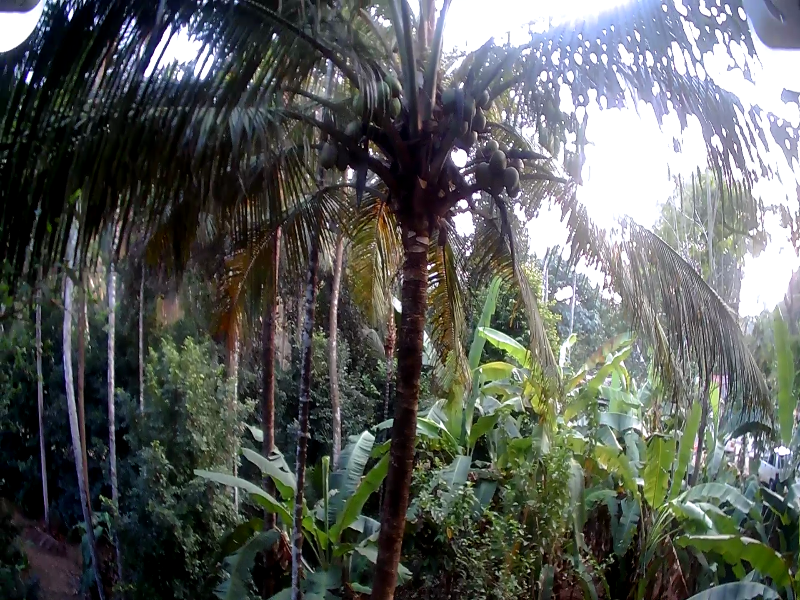coconut: (385, 73, 407, 96), (321, 140, 334, 170), (475, 160, 488, 189), (346, 117, 365, 136), (470, 103, 483, 129), (439, 88, 454, 110), (492, 152, 503, 181), (503, 167, 515, 191), (476, 84, 488, 106), (392, 101, 402, 120), (337, 146, 345, 166), (486, 140, 496, 155)
